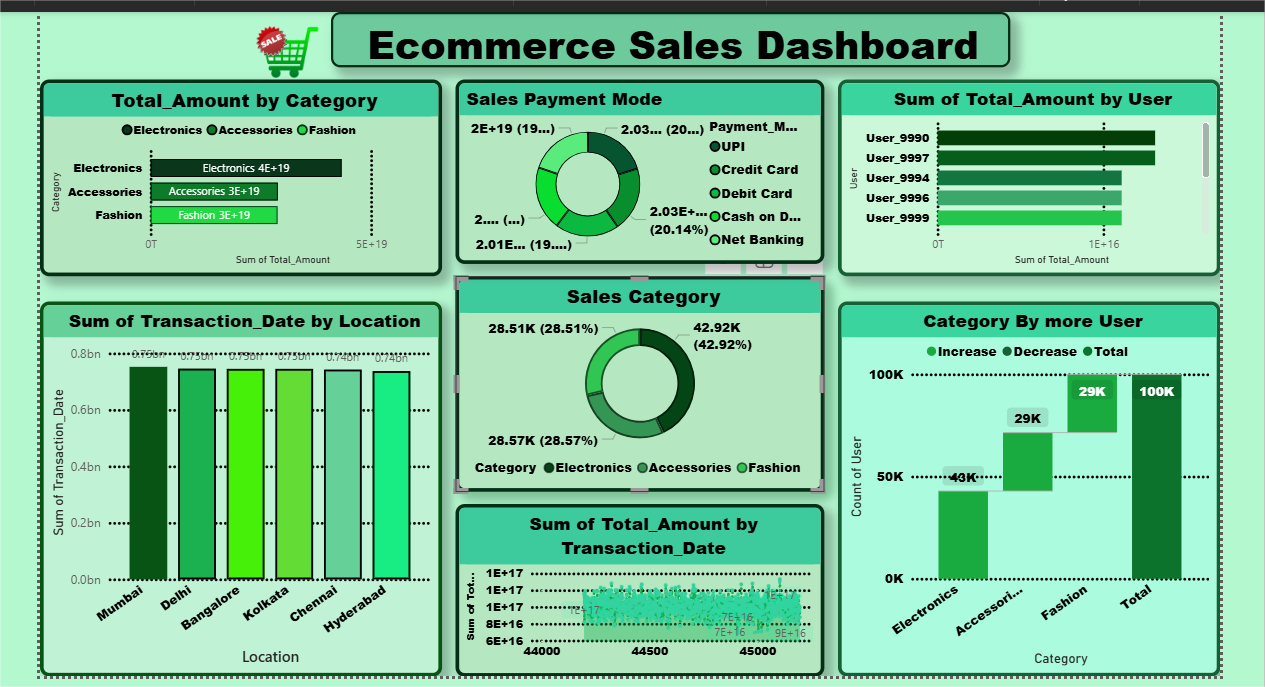

This screenshot's page, from the dashboard's own definition file:
{"tool":"powerbi","page":{"name":"Page 1","canvas":[1280,720],"ordinal":0},"visuals":[{"type":"donutChart","title":"Sales Category","fields":{"Category":["Ecommerce sales data.Category"],"Y":["CountNonNull(Ecommerce sales data.Category)"]},"box":[450.6,286.3,400.1,234.2],"z":0},{"type":"textbox","title":"Ecommerce Sales Dashboard","box":[315.5,0,736.8,60.2],"z":1000},{"type":"donutChart","title":"Sales Payment Mode","fields":{"Category":["Ecommerce sales data.Payment_Mode"],"Y":["Sum(Ecommerce sales data.Total_Amount)"]},"box":[450.6,73.2,400.1,200.1],"z":2000},{"type":"barChart","title":"Total_Amount by Category ","fields":{"Category":["Ecommerce sales data.Category"],"Y":["Sum(Ecommerce sales data.Total_Amount)"],"Series":["Ecommerce sales data.Category"]},"box":[0,73.2,435.9,213.1],"z":3000},{"type":"areaChart","fields":{"Category":["Ecommerce sales data.Transaction_Date"],"Y":["Sum(Ecommerce sales data.Total_Amount)"]},"box":[450.6,533.5,400.1,187.1],"z":4000},{"type":"clusteredColumnChart","fields":{"Category":["Ecommerce sales data.Location"],"Y":["Sum(Ecommerce sales data.Transaction_Date)"]},"box":[0,313.9,435.9,406.6],"z":5000},{"type":"barChart","fields":{"Category":["Ecommerce sales data.User"],"Y":["Sum(Ecommerce sales data.Total_Amount)"]},"box":[865.3,73.2,414.8,213.1],"z":6000},{"type":"waterfallChart","title":"Category By more User","fields":{"Category":["Ecommerce sales data.Category"],"Y":["CountNonNull(Ecommerce sales data.User)"]},"box":[865.3,313.9,414.8,406.6],"z":7000},{"type":"image","box":[218,0,97.6,91.1],"z":8000}]}

Visuals, with their boxes in screenshot pixels (x1, y1, x2, y2):
"Sales Category" donutChart: (456, 274, 820, 487)
"Ecommerce Sales Dashboard" textbox: (333, 13, 1003, 68)
"Sales Payment Mode" donutChart: (456, 80, 820, 262)
"Total_Amount by Category " barChart: (46, 80, 443, 274)
areaChart - Ecommerce sales data.Transaction_Date x Sum(Ecommerce sales data.Total_Amount): (456, 498, 820, 669)
clusteredColumnChart - Ecommerce sales data.Location x Sum(Ecommerce sales data.Transaction_Date): (46, 299, 443, 669)
barChart - Ecommerce sales data.User x Sum(Ecommerce sales data.Total_Amount): (833, 80, 1210, 274)
"Category By more User" waterfallChart: (833, 299, 1210, 669)
image: (244, 13, 333, 96)
